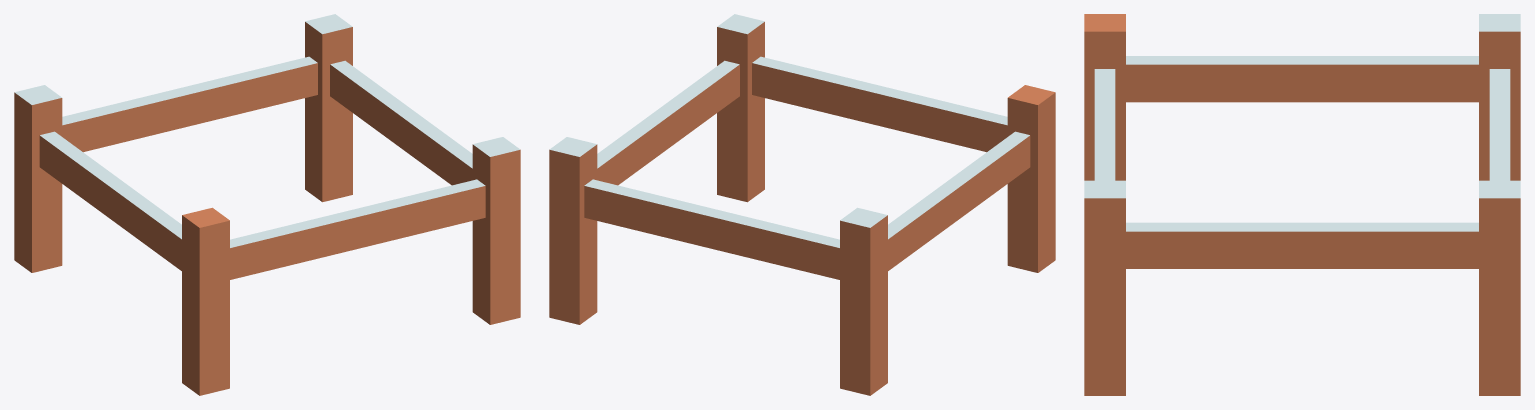
Rendered from snow_woodStructure.dae.
3 renders of one model, left to right at view 1: azimuth 30°, elevation 25°; view 2: azimuth 150°, elevation 25°; view 3: azimuth 270°, elevation 25°, orthographic. The views are drawn at different scales.
Visible parts, largest first — view 1: snow_woodStructure; view 2: snow_woodStructure; view 3: snow_woodStructure.
Part boxes in pixels (x1,y1,x2,y2): snow_woodStructure: [14, 14, 520, 395]; snow_woodStructure: [549, 14, 1055, 395]; snow_woodStructure: [1084, 14, 1520, 395].
Size of the model in its own units: 1 by 0.5 by 1.
